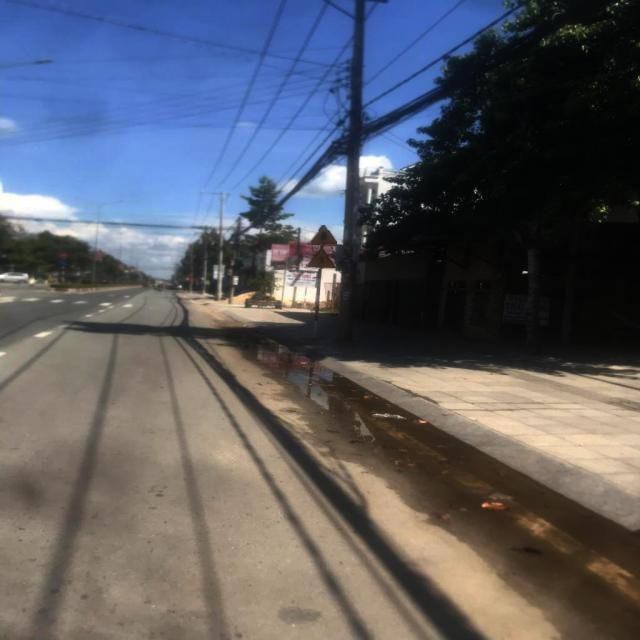chu_y_nguoi_di_bo_cat_ngang: (306, 246, 336, 269)
giao_nhau_voi_duong_khong_uu_tien: (307, 225, 337, 246)
